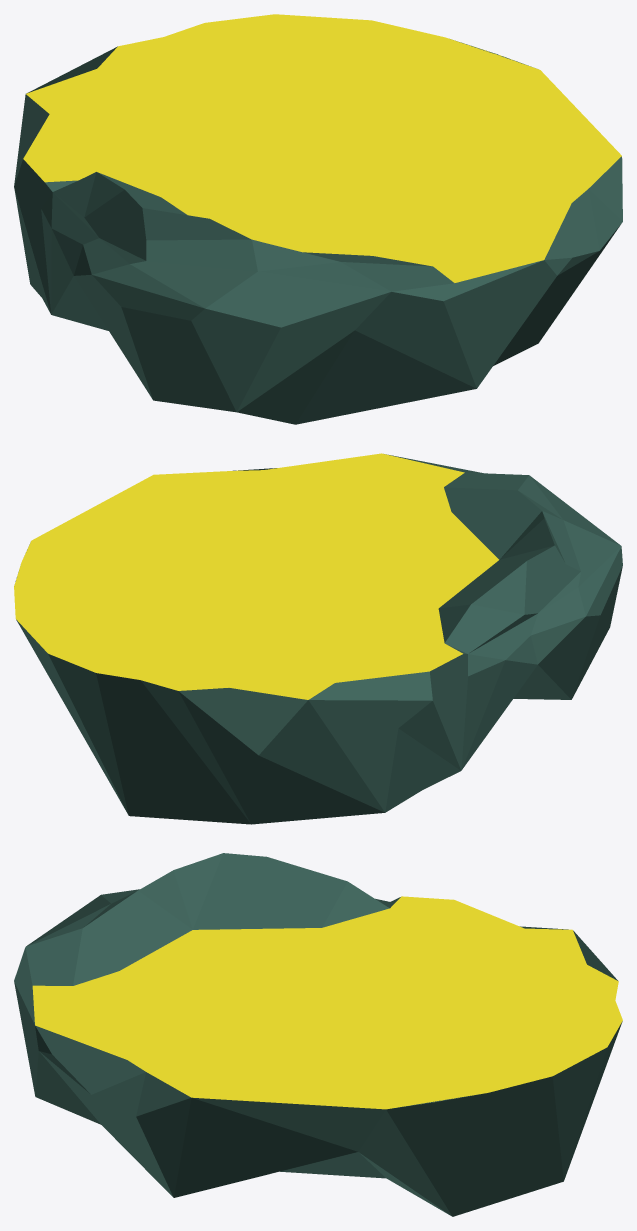
The model's file is Stone_9.fbx.
3 renders of one model, top to bottom at view 1: azimuth 30°, elevation 25°; view 2: azimuth 150°, elevation 25°; view 3: azimuth 270°, elevation 25°, orthographic. The views are drawn at different scales.
Visible parts, largest first — view 1: Stone 9; view 2: Stone 9; view 3: Stone 9.
Boxes of the visible parts, box(x1,y1,x2,y2) form: Stone 9: box(14, 14, 622, 424); Stone 9: box(14, 453, 622, 824); Stone 9: box(14, 853, 622, 1216).
Size of the model in its own units: 2771 by 1148 by 3069.
